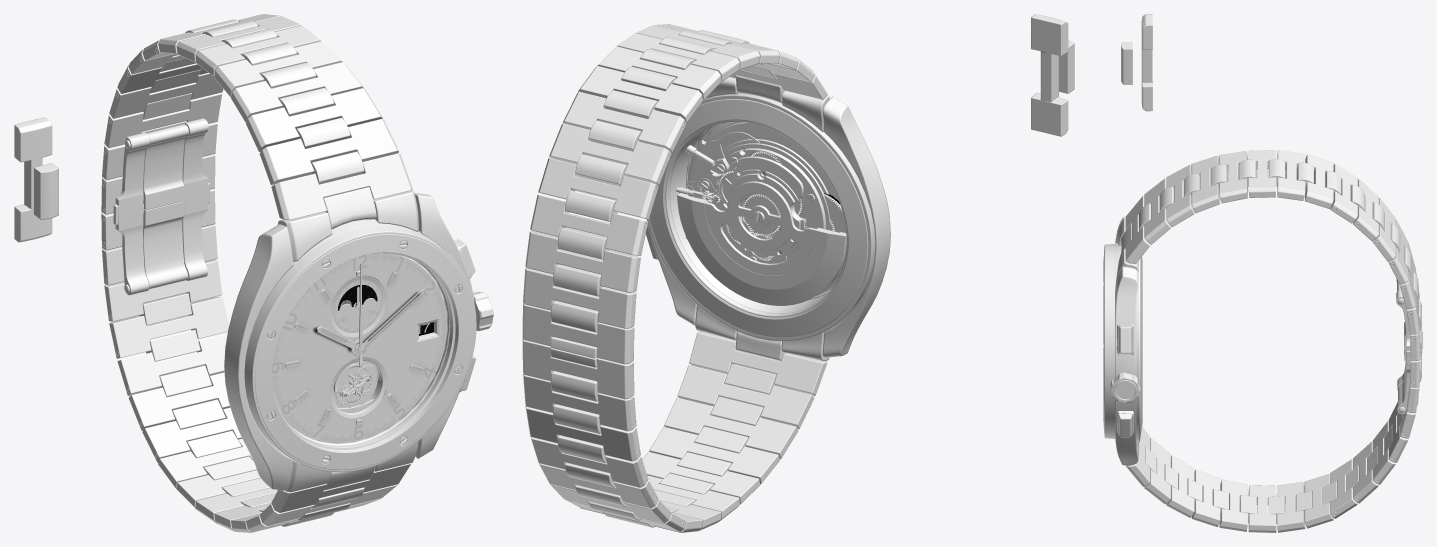
File: watch-DXFPNOEl.glb
3 views of the same model, side by side, from view 1: azimuth 30°, elevation 25°; view 2: azimuth 150°, elevation 25°; view 3: azimuth 270°, elevation 25° (orthographic). The views are drawn at different scales.
Parts seen in each view (by area): view 1: bracelet.120, dial-toBracelet.016, dial-front.002, dial-background, dial-outline, clasp-center.004, dial-background-gray, glowdial, single-link, dial-toBracelet.012, single-central-link, dial-toBracelet.014 (+5 smaller); view 2: bracelet.120, dial-toBracelet.016, crystal-back-structure, weight-xploded-2, dial-outline, dial-front.002, single-link, mainplate-xploded-8, weight-xploded-5, backplate-xploded-11, dial-toBracelet.014, dial-toBracelet.012 (+2 smaller); view 3: bracelet.120, dial-toBracelet.016, dial-outline, dial-front.002, single-link, xplodedSide-2, crystal-back-structure, single-central-link, xplodedSide-1a, dial-toBracelet.012.
Boxes of the visible parts, x1=… form: bracelet.120: x1=101, y1=14, x2=412, y2=532; dial-toBracelet.016: x1=113, y1=19, x2=376, y2=526; dial-front.002: x1=244, y1=219, x2=476, y2=472; dial-background: x1=272, y1=253, x2=446, y2=442; dial-outline: x1=224, y1=193, x2=474, y2=490; clasp-center.004: x1=143, y1=124, x2=188, y2=289; dial-background-gray: x1=282, y1=254, x2=450, y2=445; glowdial: x1=273, y1=256, x2=445, y2=441; single-link: x1=14, y1=117, x2=52, y2=242; dial-toBracelet.012: x1=277, y1=190, x2=418, y2=261; single-central-link: x1=33, y1=163, x2=58, y2=219; dial-toBracelet.014: x1=285, y1=441, x2=418, y2=492; bracelet.120: x1=522, y1=24, x2=827, y2=532; dial-toBracelet.016: x1=550, y1=30, x2=785, y2=527; crystal-back-structure: x1=649, y1=99, x2=868, y2=337; weight-xploded-2: x1=677, y1=181, x2=846, y2=305; dial-outline: x1=647, y1=96, x2=890, y2=357; dial-front.002: x1=646, y1=93, x2=889, y2=341; single-link: x1=1031, y1=14, x2=1068, y2=136; mainplate-xploded-8: x1=687, y1=122, x2=844, y2=291; weight-xploded-5: x1=722, y1=156, x2=806, y2=263; backplate-xploded-11: x1=708, y1=143, x2=829, y2=230; dial-toBracelet.014: x1=695, y1=305, x2=829, y2=361; dial-toBracelet.012: x1=706, y1=77, x2=829, y2=132; bracelet.120: x1=1125, y1=150, x2=1420, y2=532; dial-toBracelet.016: x1=1120, y1=159, x2=1422, y2=523; dial-outline: x1=1115, y1=217, x2=1138, y2=465; dial-front.002: x1=1103, y1=243, x2=1139, y2=442; single-link: x1=1141, y1=14, x2=1152, y2=111; xplodedSide-2: x1=1110, y1=372, x2=1140, y2=403; crystal-back-structure: x1=1140, y1=257, x2=1142, y2=438; single-central-link: x1=1121, y1=42, x2=1132, y2=84; xplodedSide-1a: x1=1118, y1=325, x2=1132, y2=353; dial-toBracelet.012: x1=1115, y1=217, x2=1138, y2=287.
Size of what is drawn, in the model's own units: 0.0771 by 0.0834 by 0.0626.
Materials: 22 (8 with a texture image).
